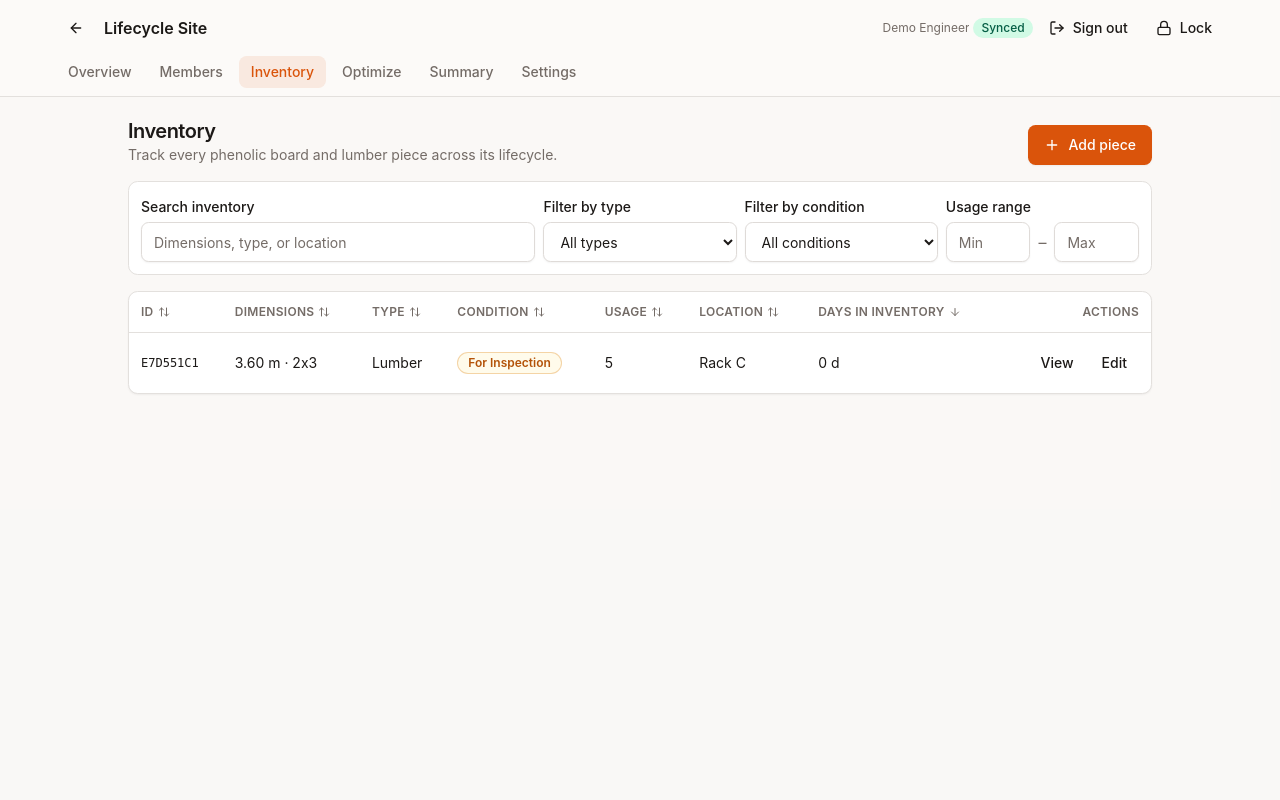
Test: ProjectInventoryScreen lifecycle and history › shows the automatic For Inspection condition at five uses and the full usage log
Expected: the heading "Inventory" is shown, 128,119 -> 215,143
Expected: the text "For Inspection" is shown, 457,352 -> 562,374
Step 1. Click the button with aria-label "view piece" → (1057, 362), box 1028,344 -> 1086,380
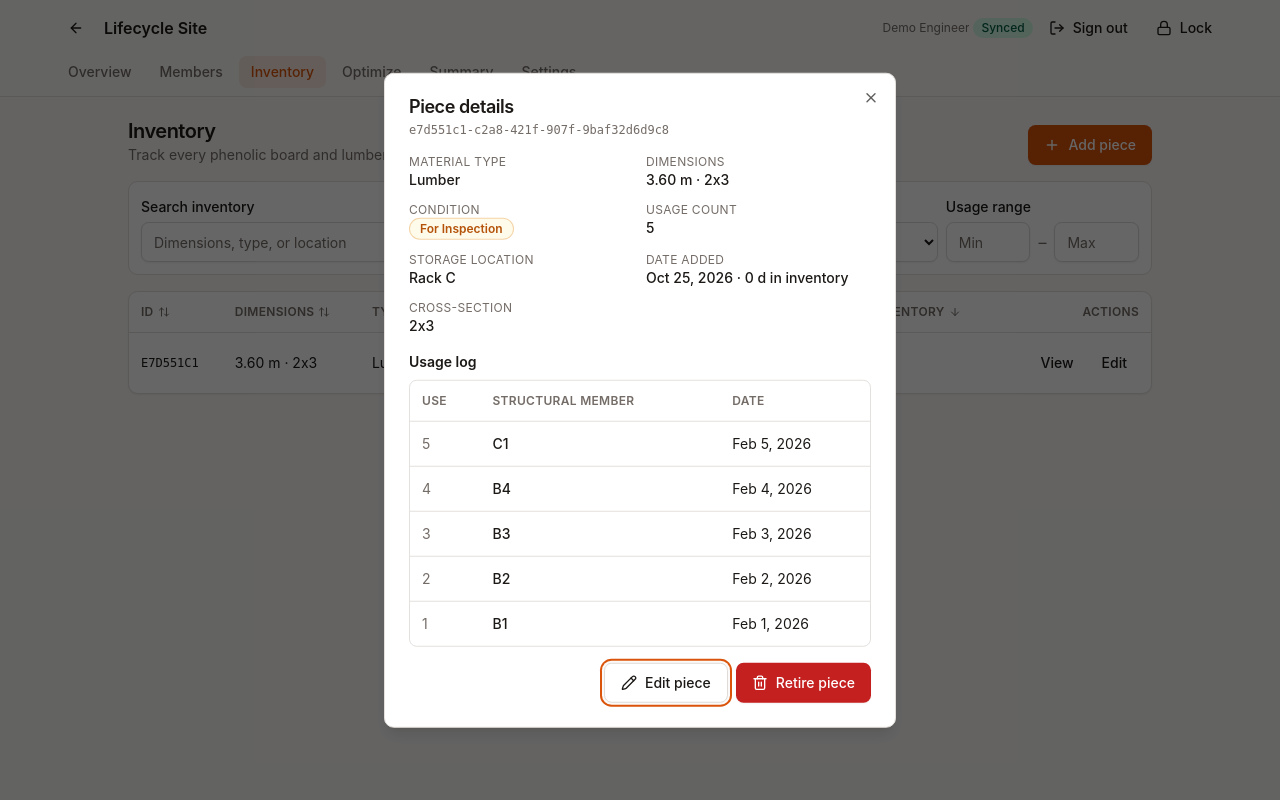
Expected: the heading "Piece details" is shown, 409,96 -> 514,117
Expected: the text "C1" is shown, 481,421 -> 720,466
Expected: the text "B4" is shown 4 times, 481,466 -> 720,511; 481,511 -> 720,556; 481,556 -> 720,601; 481,601 -> 720,645
